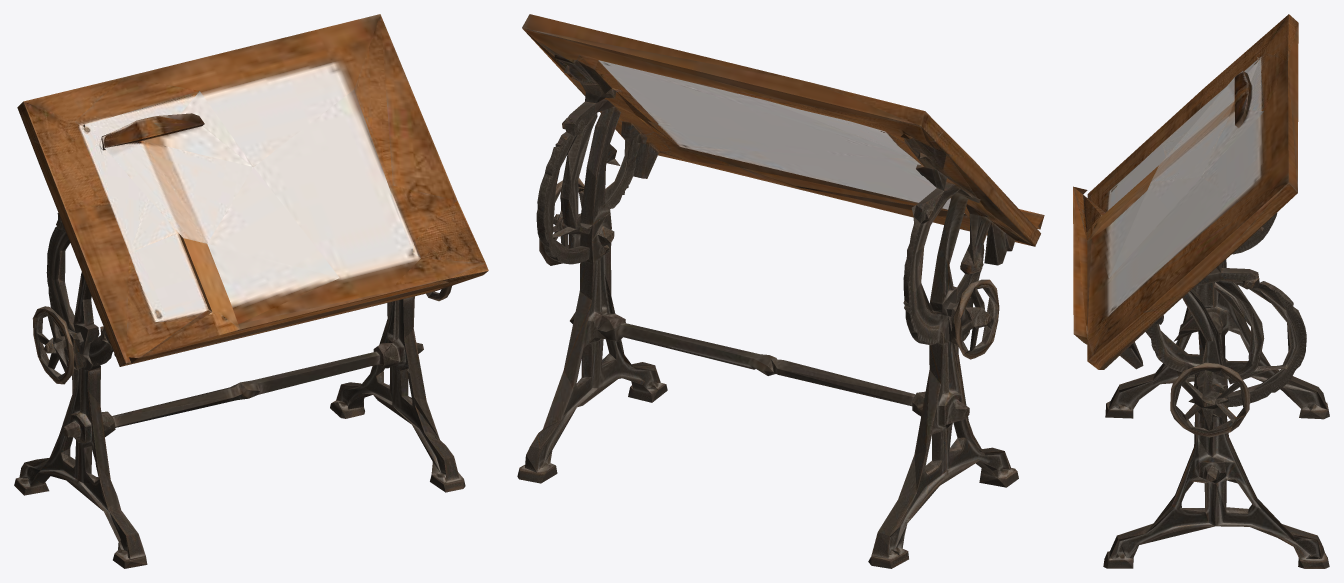
The model's file is drafting.glb.
The picture shows the model from 3 angles, left to right: view 1: azimuth 30°, elevation 25°; view 2: azimuth 150°, elevation 25°; view 3: azimuth 270°, elevation 25°; orthographic projection. The views are drawn at different scales.
Parts seen in each view (by area): view 1: Mesh_0; view 2: Mesh_0; view 3: Mesh_0.
Boxes of the visible parts, <box> form: Mesh_0: <box>14,14,488,568</box>; Mesh_0: <box>517,14,1044,568</box>; Mesh_0: <box>1073,14,1329,568</box>.
Size of the model in its own units: 1.65 by 1.61 by 0.961.
1 material, 1 textured.
